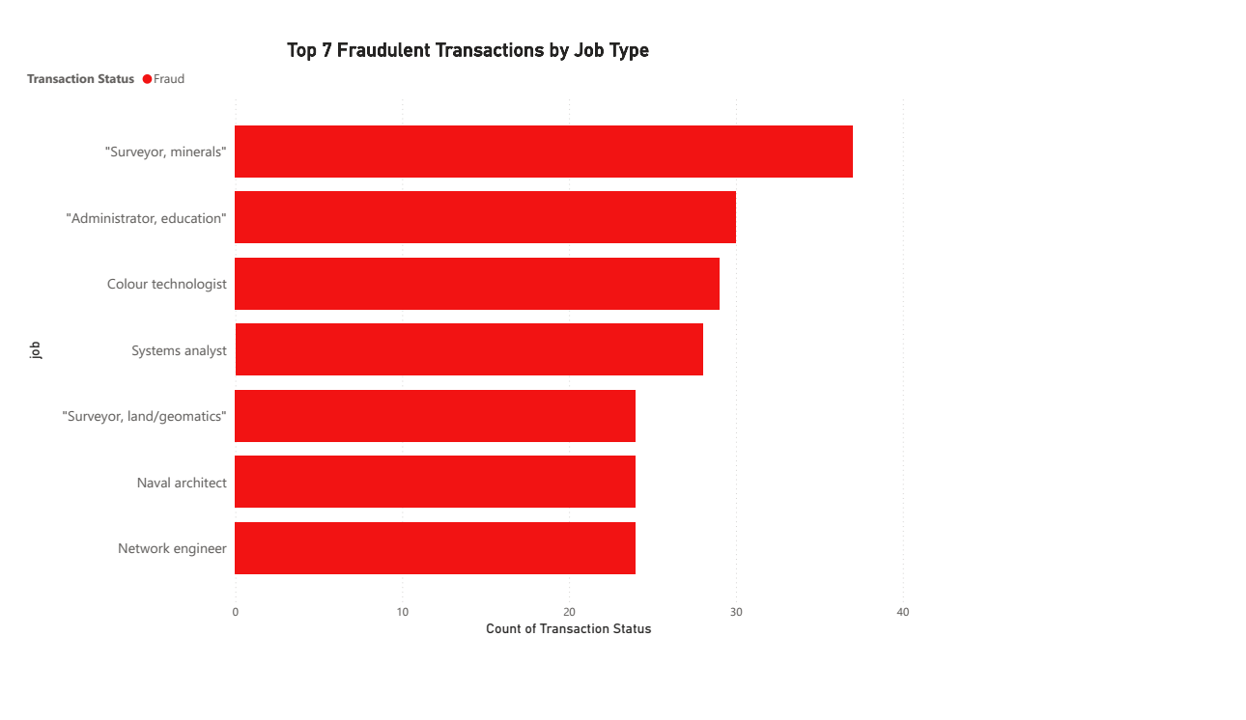

What the dashboard file says about the page in this screenshot:
{"tool":"powerbi","page":{"name":"Page 7","canvas":[1280,720],"ordinal":6},"visuals":[{"type":"barChart","title":"Top 7 Fraudulent Transactions by Job Type","fields":{"Category":["fraud_data.job"],"Y":["CountNonNull(fraud_data.Transaction Status)"],"Series":["fraud_data.Transaction Status"]},"box":[0,16.8,950.8,643.4],"z":0}]}

Visuals, with their boxes in screenshot pixels (x1, y1, x2, y2), scaled from the page's 1280x720 canvas onto the 1246x720 screenshot:
"Top 7 Fraudulent Transactions by Job Type" barChart: left=0, top=17, right=926, bottom=660
